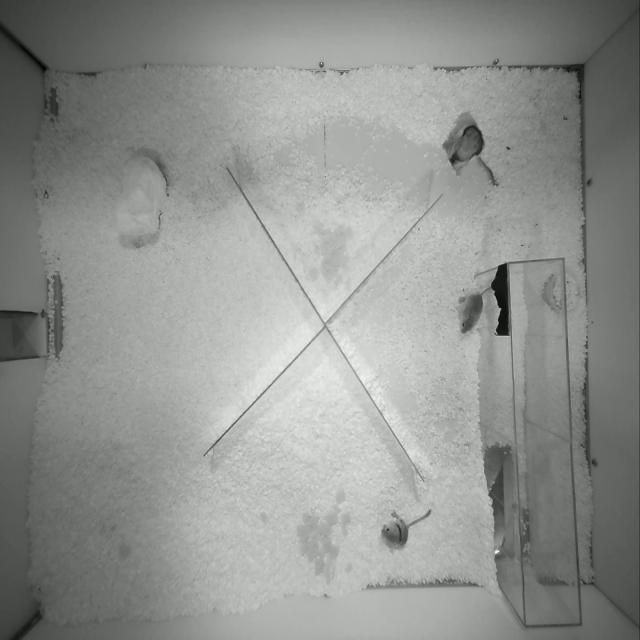adult_front: (448, 125, 497, 186)
pup_fluffy: (461, 287, 490, 333)
pup_h_stripe: (381, 510, 431, 547)
